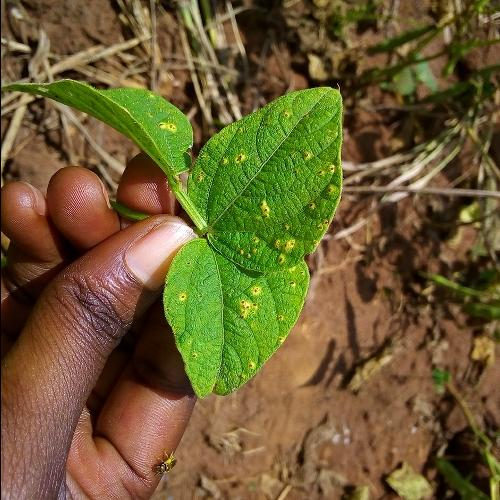hawar: (238, 178, 300, 268), (216, 277, 278, 330), (206, 132, 268, 172), (158, 265, 195, 318)
